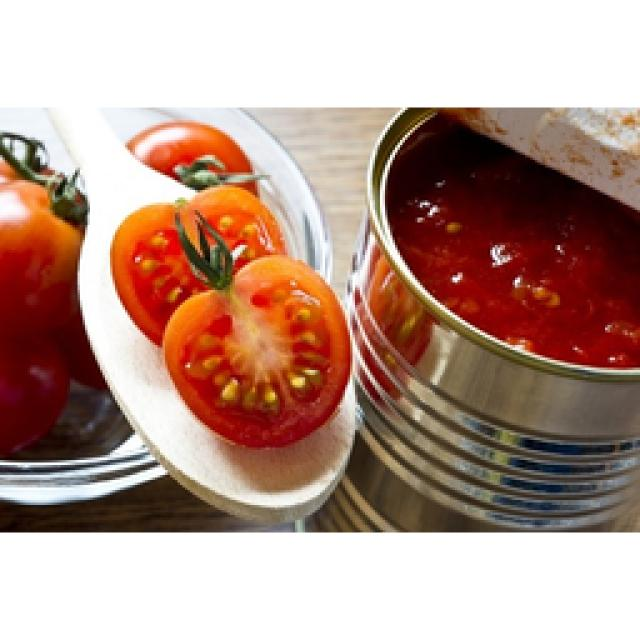alumunium: (318, 108, 638, 530), (445, 108, 638, 210)
